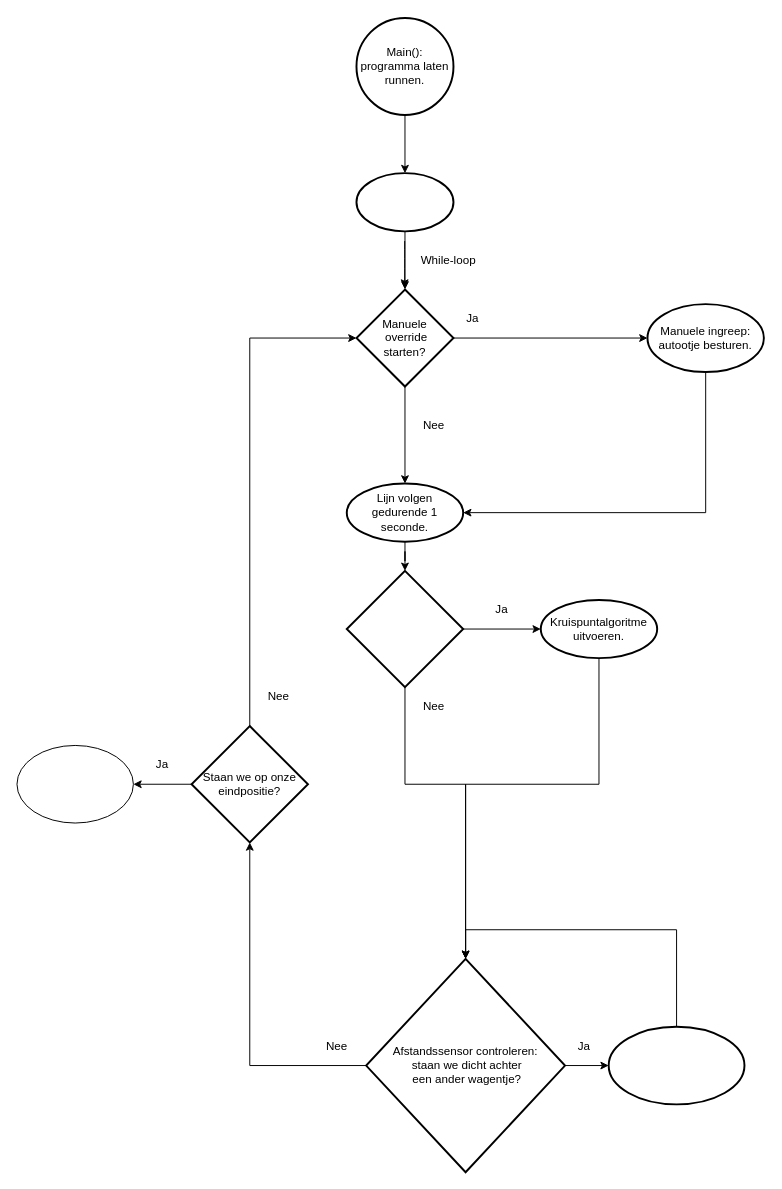
Some shapes in this 782 by 1189 pixel diagram are drawn without their labels. The centre of each missing label's shape, as x and y in pixels:
"Initialisaties." goes at [404,202].
"Parcours voltooid." goes at [74,783].
"Staan we aan een stopstreep?" goes at [404,628].
"Stoppen en wachten totdat het autootje ver genoeg is." goes at [676,1065].
